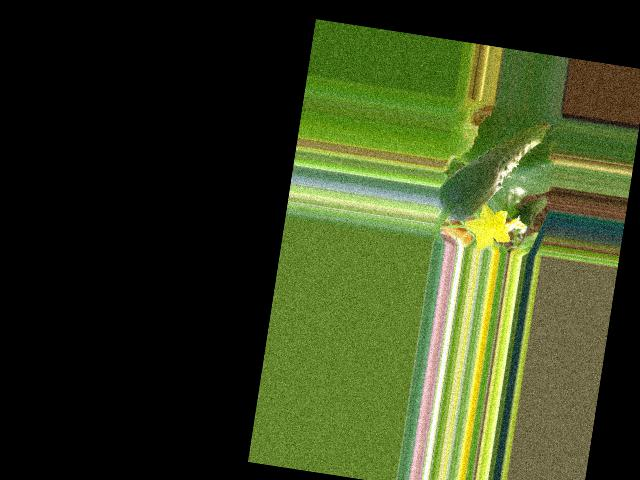cucumber: (435, 108, 551, 232)
